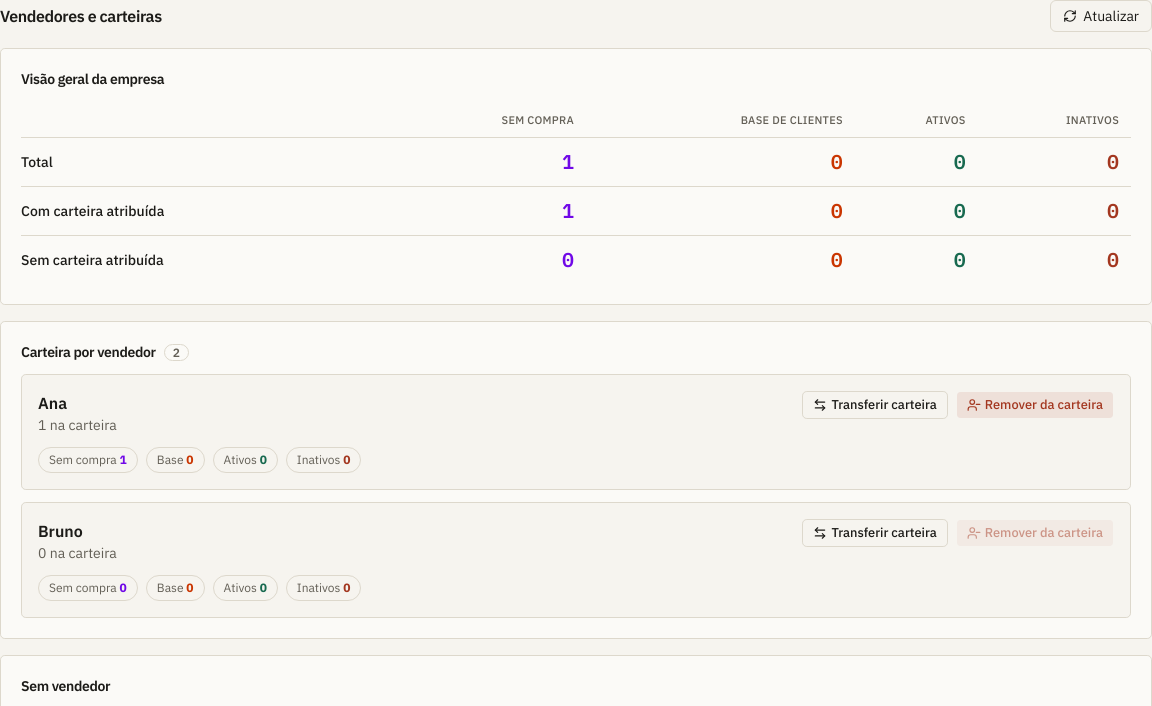
Test: B48-16 — Botões perigosos separados dos comuns › CA-B48-42: should deixar Remover da carteira vermelho, na outra ponta, e pedir confirmação
The width and height of the screenshot is (1152, 706).
Click the button "Remover da carteira" in the row of "Ana": (1035,405) [956, 391, 1114, 419]
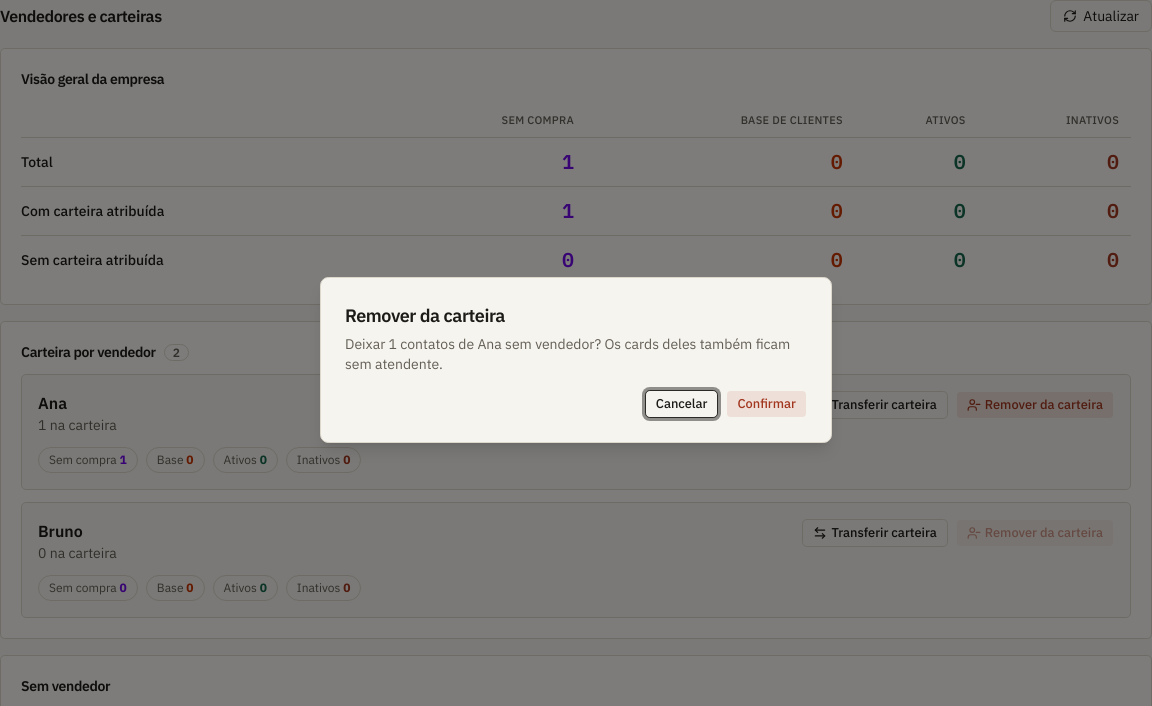
Now the text with test id "confirmacao-remover" is shown, box [345, 334, 807, 374]
